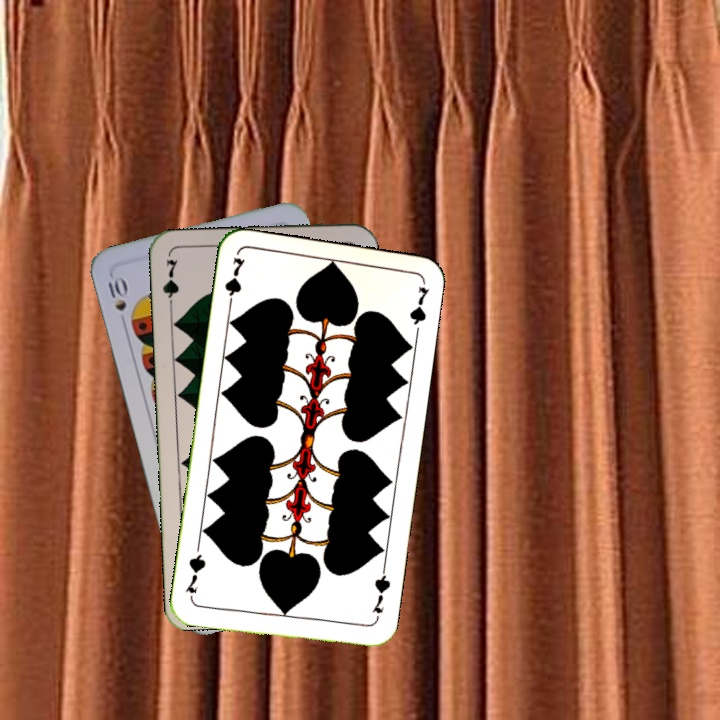G7: (221, 253, 248, 312), (159, 255, 182, 314), (368, 566, 393, 616)
S10: (104, 272, 129, 314)
